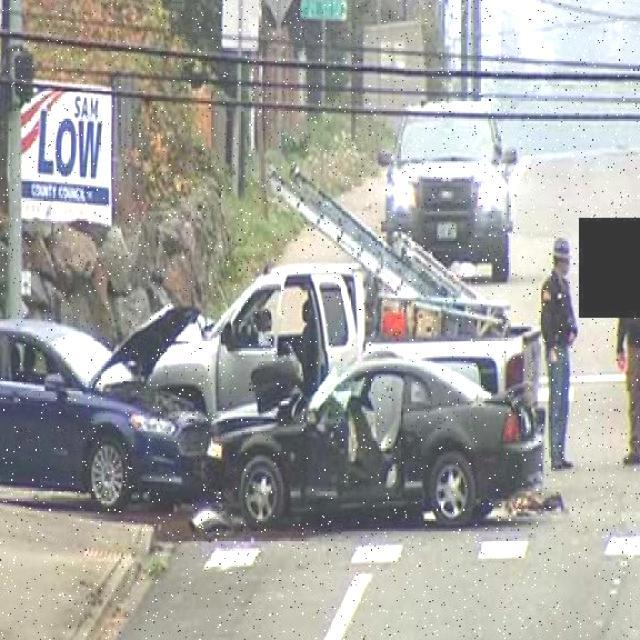accident: (0, 288, 546, 532)
